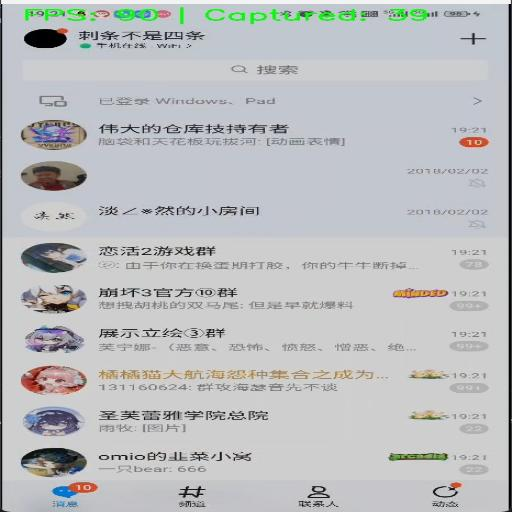butten: (2, 279, 511, 325), (2, 118, 496, 151), (279, 479, 375, 512), (411, 481, 483, 512), (164, 477, 232, 507), (28, 479, 99, 507)
input: (22, 60, 488, 84)
